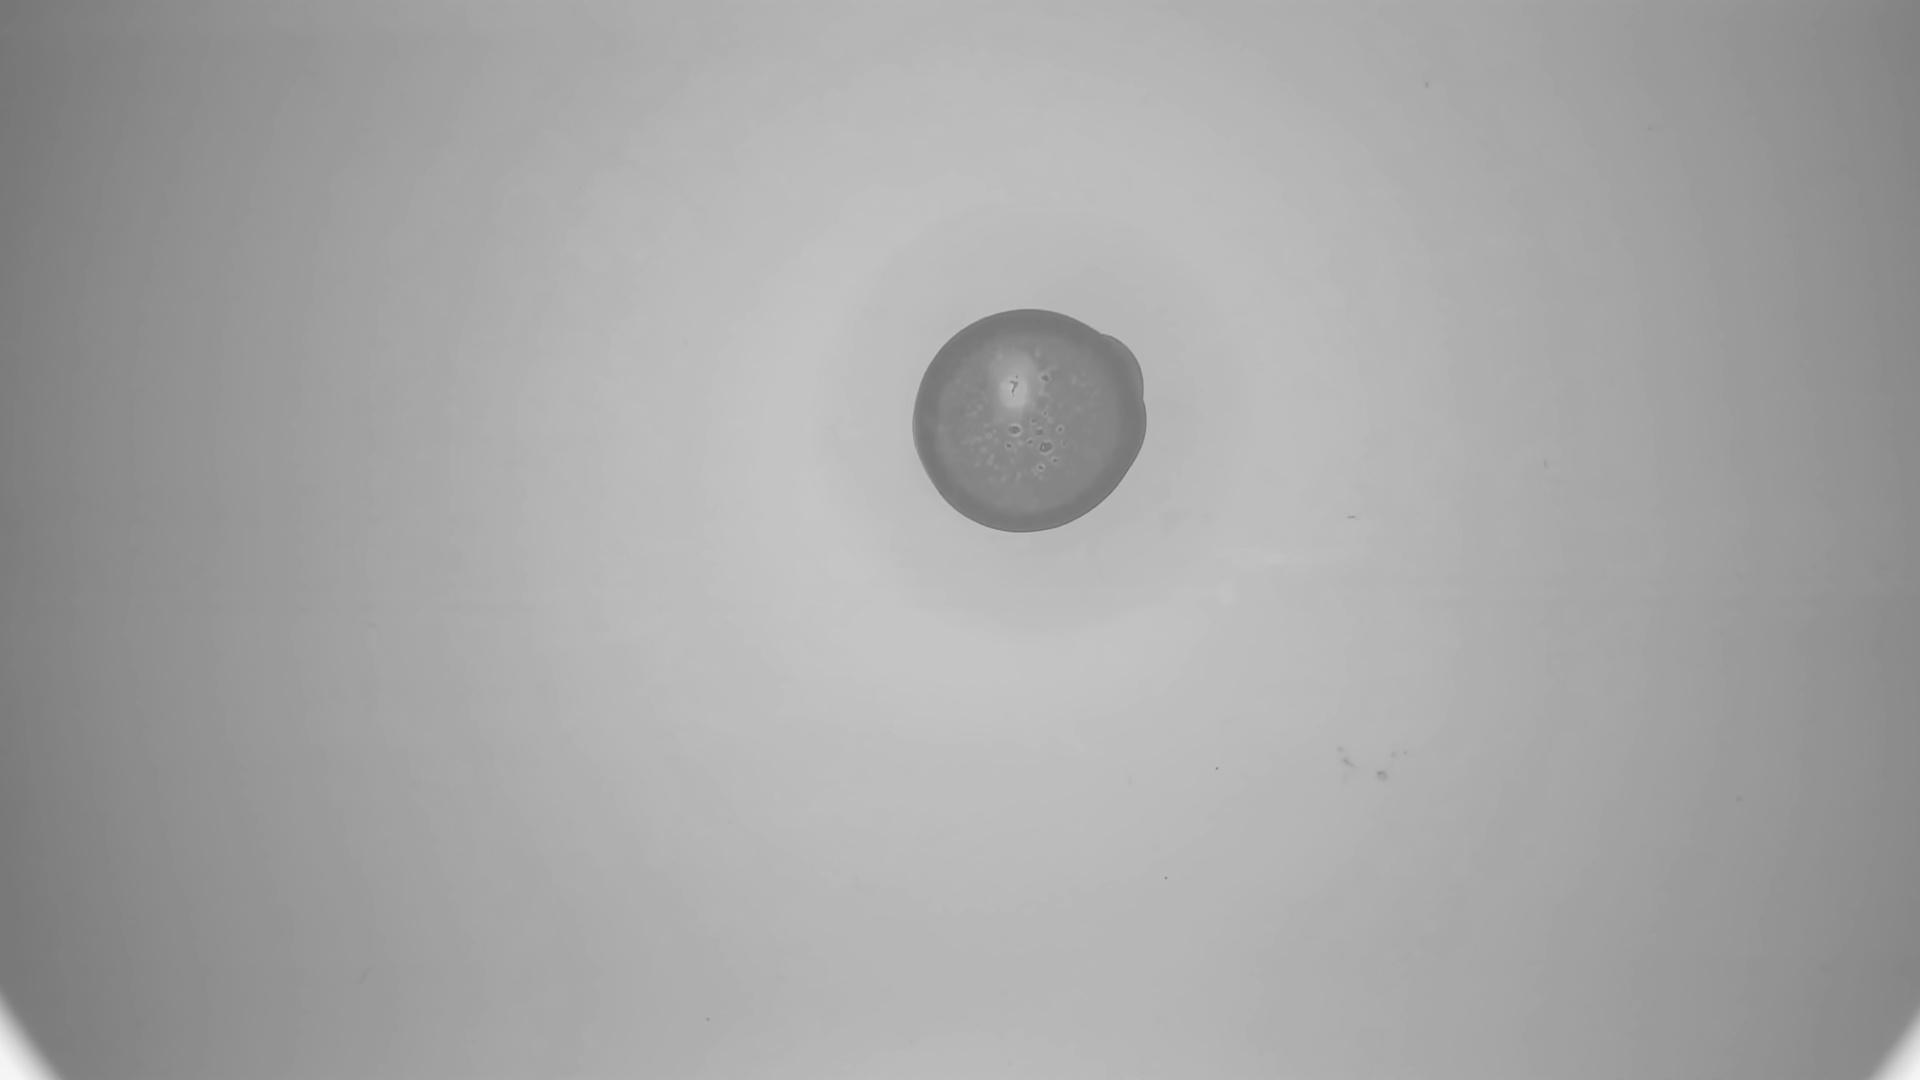abnormal: (910, 306, 1149, 535)
